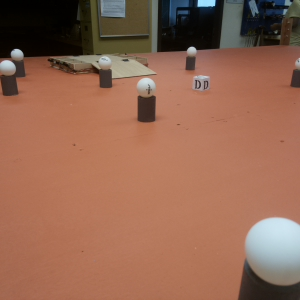obstacle: (242, 215, 299, 300), (137, 76, 157, 121), (1, 60, 17, 95), (98, 56, 112, 88), (11, 48, 25, 78), (291, 57, 300, 87), (186, 46, 195, 70)
side: (45, 55, 80, 74)
slope: (101, 59, 157, 80)
